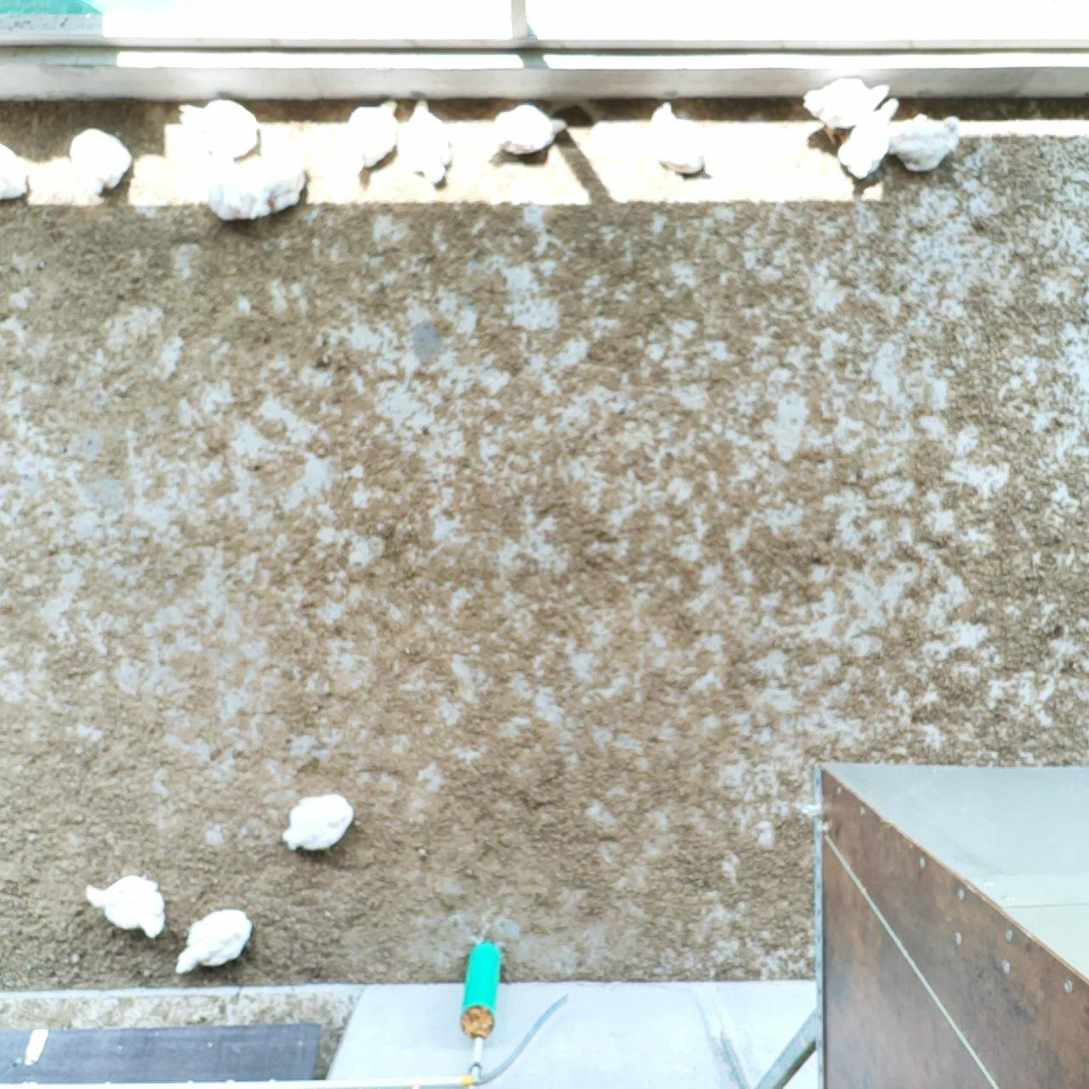chicken: (800, 72, 890, 145), (170, 907, 256, 981), (830, 92, 899, 180), (82, 872, 167, 942), (394, 96, 454, 191), (879, 109, 963, 175), (645, 99, 710, 181), (170, 97, 258, 157), (279, 790, 356, 858), (336, 96, 399, 179), (486, 102, 569, 160), (68, 123, 133, 196), (253, 157, 310, 220), (206, 167, 266, 222), (0, 135, 30, 203)
